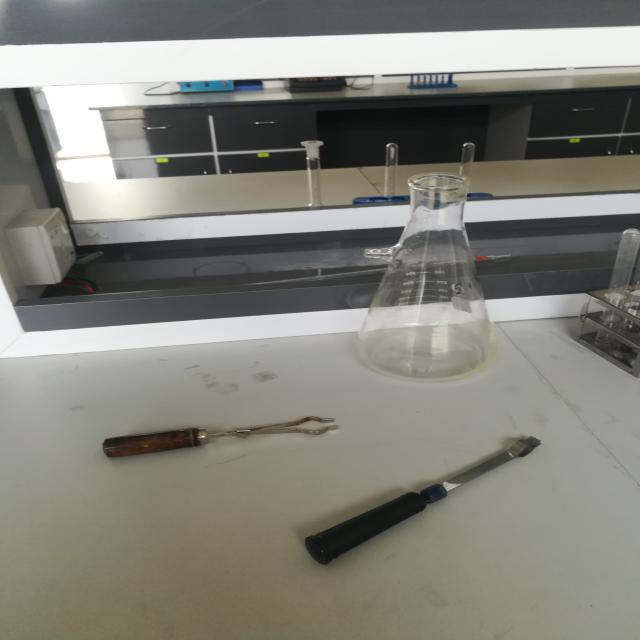Conical_Flask: (347, 171, 533, 394)
TestTube_Holder: (285, 421, 579, 576), (84, 396, 398, 466)
